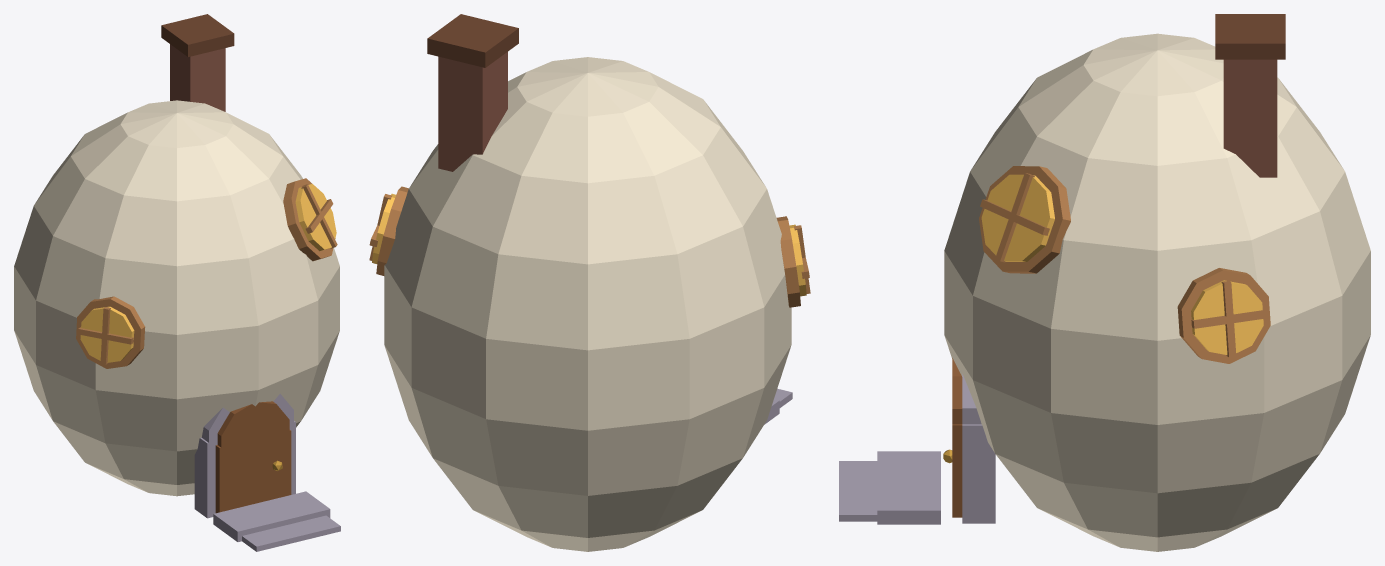
File: cottage.glb
3 renders of one model, left to right at view 1: azimuth 30°, elevation 25°; view 2: azimuth 150°, elevation 25°; view 3: azimuth 270°, elevation 25°, orthographic. The views are drawn at different scales.
Parts seen in each view (by area): view 1: cottage; view 2: cottage; view 3: cottage.
Boxes of the visible parts, x1,y1,x2,y2 form: cottage: [14, 14, 340, 551]; cottage: [369, 14, 810, 551]; cottage: [839, 14, 1370, 551].
Size of the model in its own units: 3.45 by 4.7 by 4.17.
